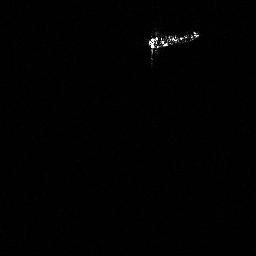ship: (145, 27, 201, 64)
